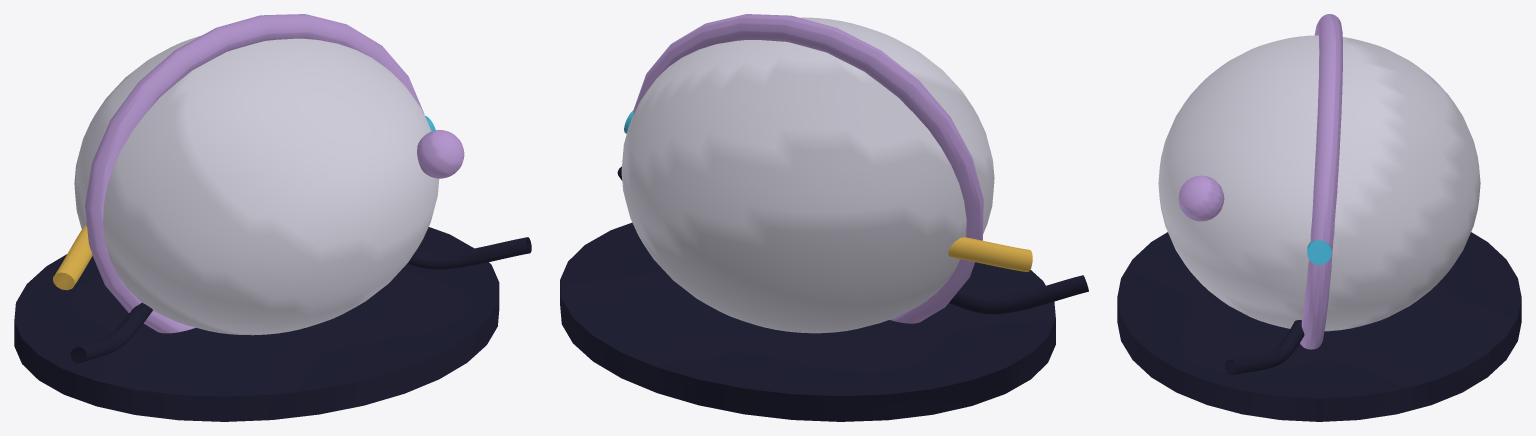
The model's file is 1226_细胞图鉴_内质网.glb.
The picture shows the model from 3 angles, left to right: view 1: azimuth 30°, elevation 25°; view 2: azimuth 150°, elevation 25°; view 3: azimuth 270°, elevation 25°; orthographic projection. The views are drawn at different scales.
Visible parts, largest first — view 1: card_1226; view 2: card_1226; view 3: card_1226.
Part boxes in pixels (<box>): card_1226: <box>14,14,531,421</box>; card_1226: <box>560,14,1088,421</box>; card_1226: <box>1117,14,1521,421</box>.
Bounding box in the file's own units: 1.53 × 1 × 1.24.
